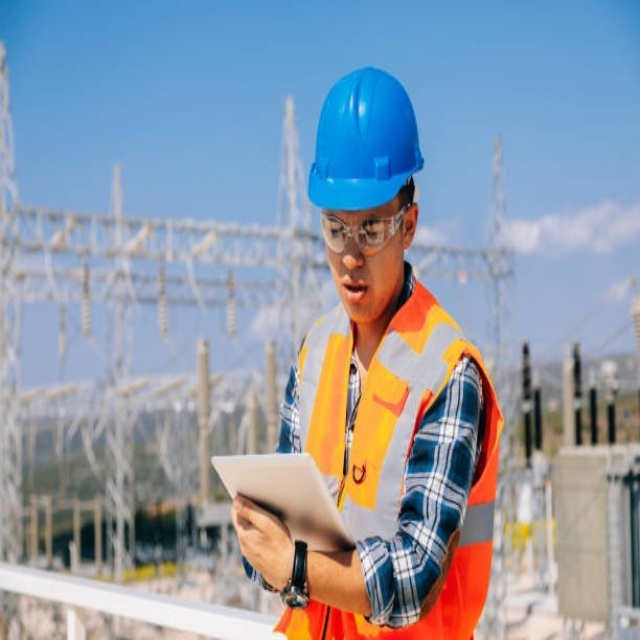Gafas: (319, 202, 410, 255)
Sin_guantes: (230, 493, 297, 591)
Sin_mascara: (336, 271, 379, 323)
